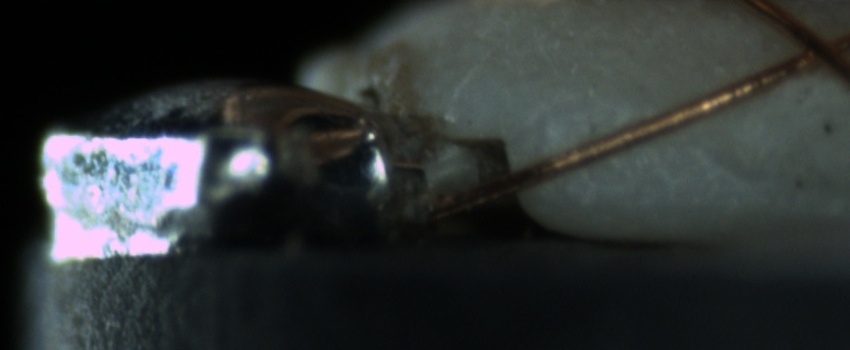CL: (772, 14, 848, 78)
